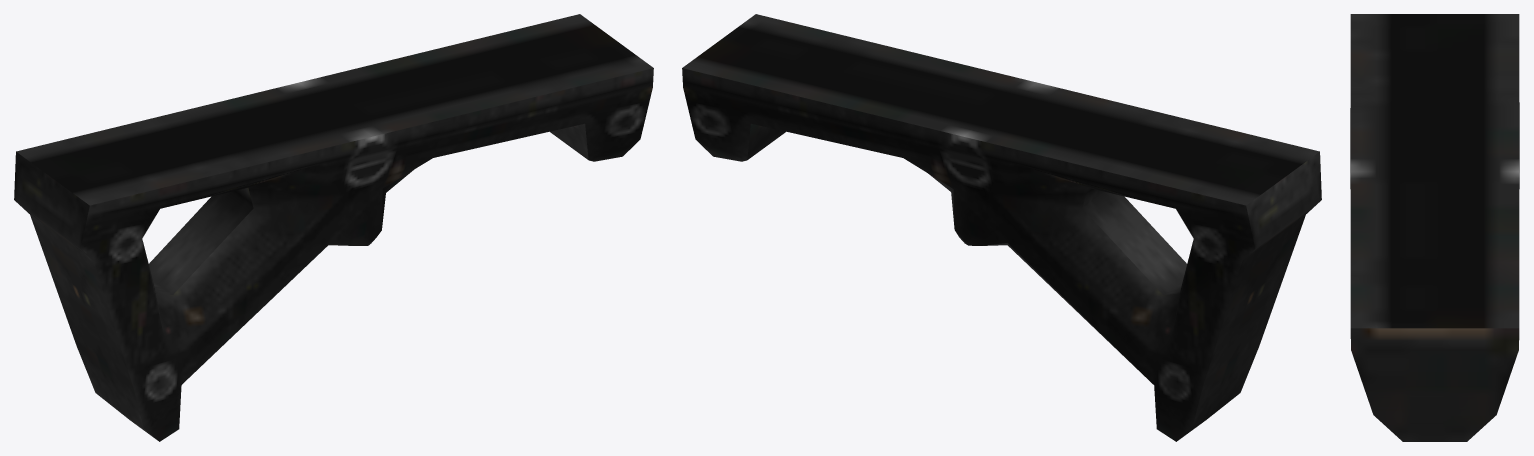
Rendered from ST_WB_Angled.FBX.
3 views of the same model, side by side, from view 1: azimuth 30°, elevation 25°; view 2: azimuth 150°, elevation 25°; view 3: azimuth 270°, elevation 25° (orthographic). The views are drawn at different scales.
Parts seen in each view (by area): view 1: ST_WB_Angled; view 2: ST_WB_Angled; view 3: ST_WB_Angled.
Boxes of the visible parts, x1,y1,x2,y2 form: ST_WB_Angled: [14, 14, 653, 441]; ST_WB_Angled: [682, 14, 1321, 441]; ST_WB_Angled: [1350, 14, 1519, 441].
Size of the model in its own units: 12.1 by 5.58 by 2.73.
Materials: 1 (1 with a texture image).
